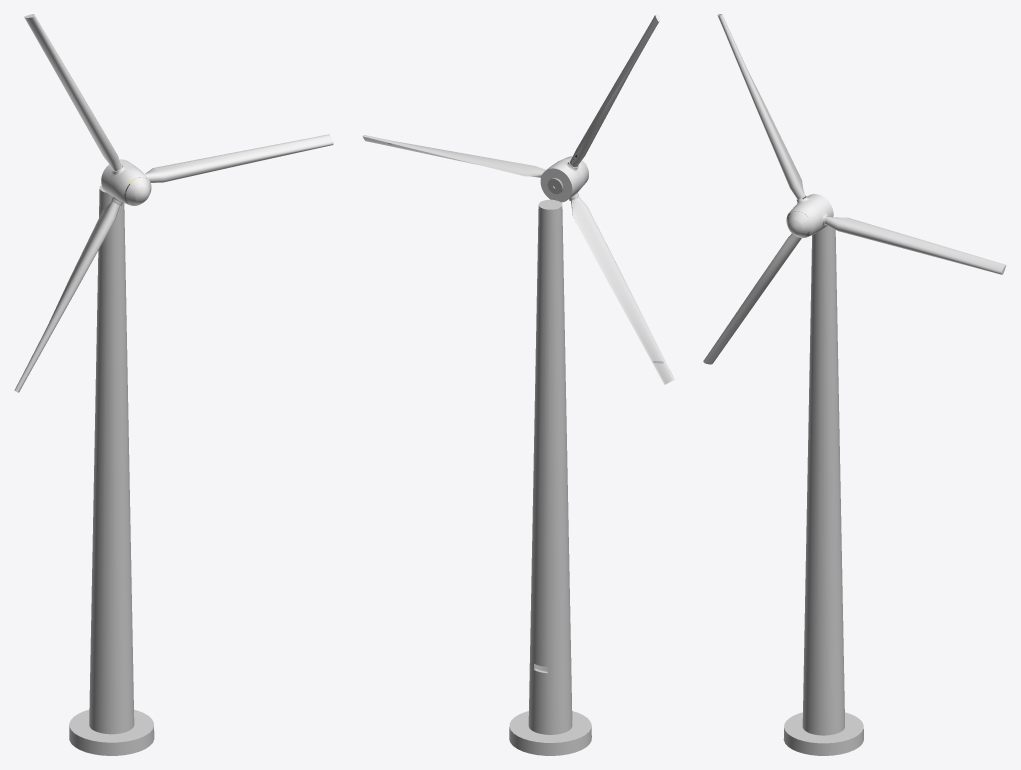
Rendered from wind_mill.fbx.
3 views of the same model, side by side, from view 1: azimuth 30°, elevation 25°; view 2: azimuth 150°, elevation 25°; view 3: azimuth 330°, elevation 25° (orthographic). The views are drawn at different scales.
Visible parts, largest first — view 1: Tower, Rotor; view 2: Tower, Rotor; view 3: Tower, Rotor.
Boxes of the visible parts, box(x1,y1,x2,y2) form: Tower: box(69, 185, 154, 755); Rotor: box(14, 14, 333, 392); Tower: box(509, 199, 591, 755); Rotor: box(362, 14, 674, 384); Tower: box(783, 226, 863, 755); Rotor: box(703, 14, 1006, 364).
Bounding box in the file's own units: 295 × 672 × 86.18.
